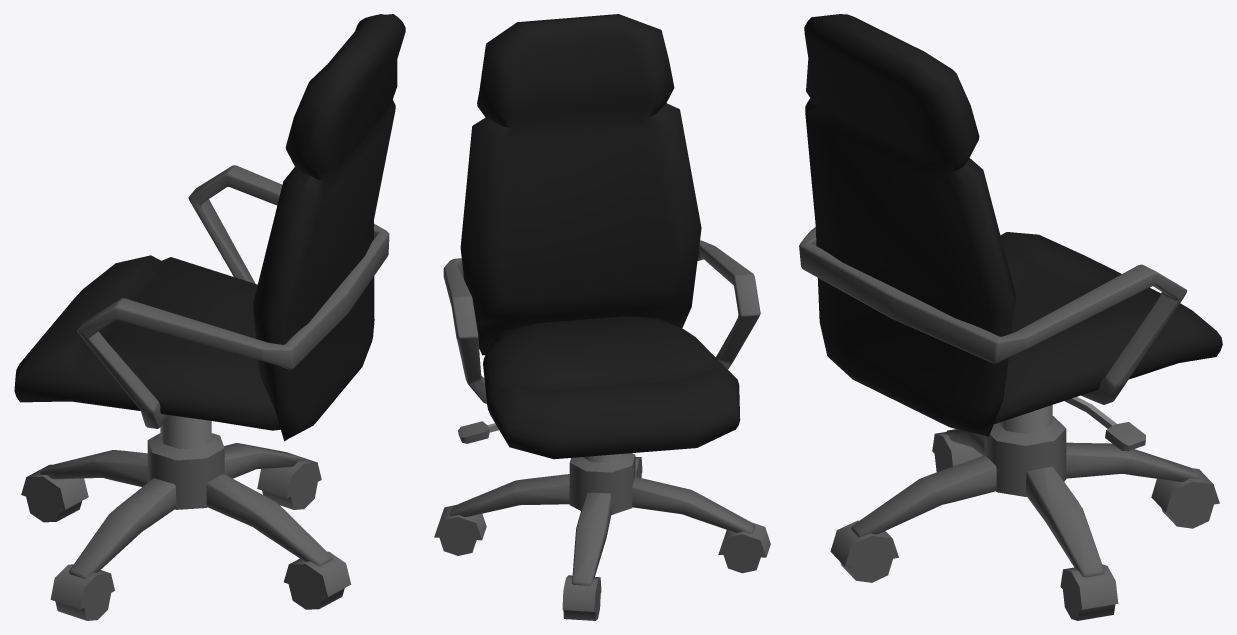
File: chair.glb
3 renders of one model, left to right at view 1: azimuth 30°, elevation 25°; view 2: azimuth 150°, elevation 25°; view 3: azimuth 270°, elevation 25°, orthographic. The views are drawn at different scales.
Visible parts, largest first — view 1: Computer Chair; view 2: Computer Chair; view 3: Computer Chair.
Boxes of the visible parts, x1=… form: Computer Chair: x1=14, y1=14, x2=405, y2=620; Computer Chair: x1=434, y1=14, x2=770, y2=620; Computer Chair: x1=799, y1=14, x2=1222, y2=620.
Size of the model in its own units: 3.24 by 4.78 by 3.23.
Materials: 1 (1 with a texture image).
